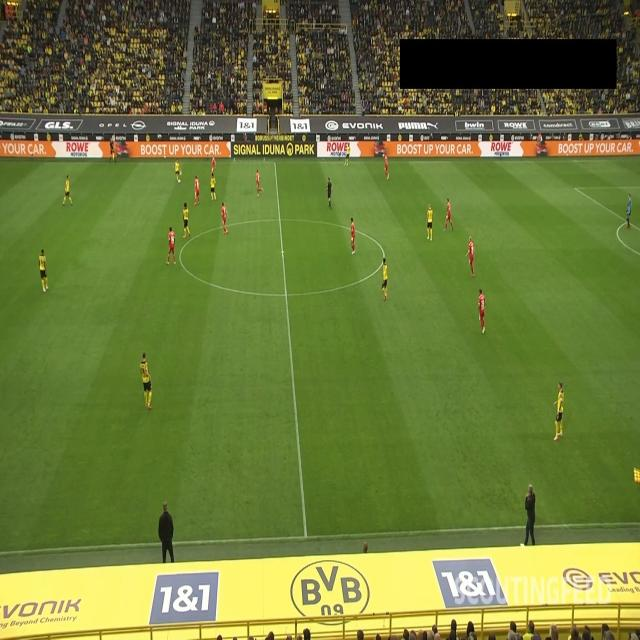ball: (178, 178, 181, 184)
